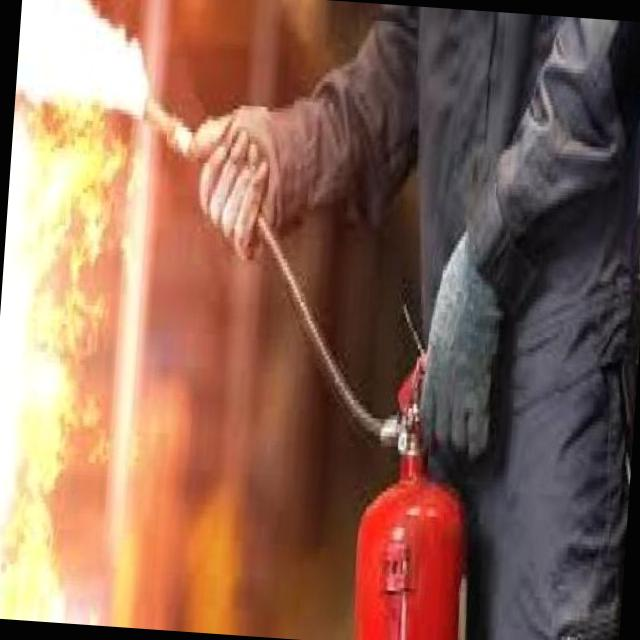gloves: (120, 38, 394, 286), (378, 235, 534, 478)
